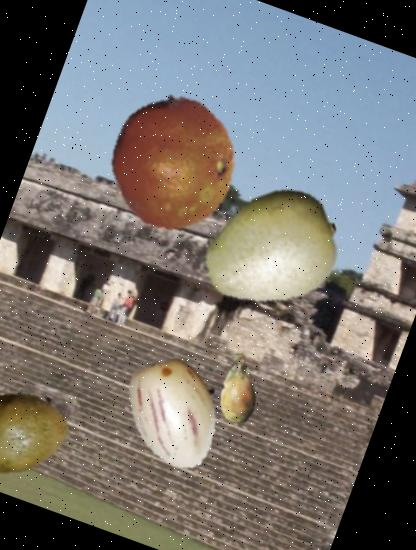Cactus: (190, 340, 286, 435)
Clementine: (84, 74, 262, 252)
Papaya: (0, 360, 84, 505)
Pear: (176, 158, 361, 344)
Pepino: (104, 338, 250, 484)
